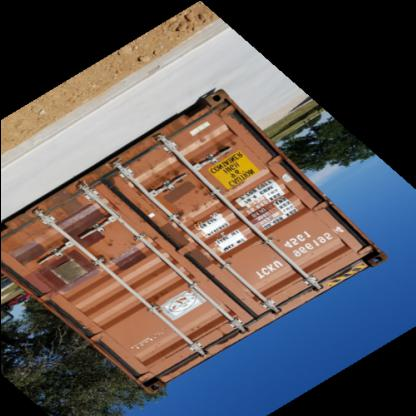Damage: (140, 159, 182, 184), (192, 130, 240, 150), (188, 182, 216, 209), (102, 230, 116, 270)
